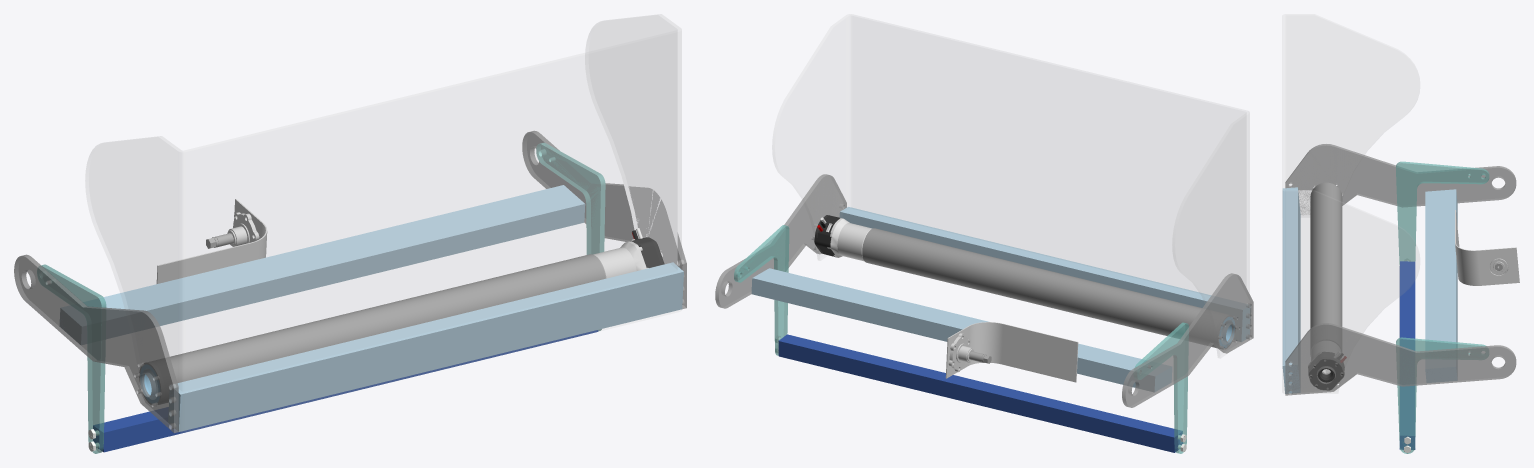
3 renders of one model, left to right at view 1: azimuth 30°, elevation 25°; view 2: azimuth 150°, elevation 25°; view 3: azimuth 270°, elevation 25°, orthographic. The views are drawn at different scales.
Visible parts, largest first — view 1: Part 1, Intake cross brace (×2), intake arm for neo or vortex (×2), Inner Tube, intake L polycarb (×2), peanut bar, Mount, id42, 1/2" Hex Hub (0.875" OD, 1.875" Bolt Circle), NEO Vortex Solo Adapter; view 2: Part 1, Intake cross brace (×2), Inner Tube, intake arm for neo or vortex (×2), peanut bar, intake L polycarb (×2), Mount, id42, 1/2" Hex Hub (0.875" OD, 1.875" Bolt Circle), NEO Vortex Solo Adapter; view 3: Part 1, intake arm for neo or vortex (×2), Intake cross brace (×2), intake L polycarb (×2), Inner Tube, peanut bar, Mount, NEO Vortex Solo Adapter, id42.
Boxes of the visible parts, <box> form: Part 1: <box>85,14,681,431</box>; Intake cross brace (×2): <box>59,185,683,431</box>; intake arm for neo or vortex (×2): <box>14,131,686,433</box>; Inner Tube: <box>139,254,605,405</box>; intake L polycarb (×2): <box>37,142,605,453</box>; peanut bar: <box>93,330,598,452</box>; Mount: <box>156,199,267,283</box>; id42: <box>593,241,648,278</box>; 1/2" Hex Hub (0.875" OD, 1.875" Bolt Circle): <box>227,212,259,246</box>; NEO Vortex Solo Adapter: <box>630,228,664,267</box>; Part 1: <box>772,14,1249,357</box>; Intake cross brace (×2): <box>751,207,1250,391</box>; Inner Tube: <box>862,228,1235,348</box>; intake arm for neo or vortex (×2): <box>715,174,1253,407</box>; peanut bar: <box>778,334,1182,452</box>; intake L polycarb (×2): <box>734,225,1188,453</box>; Mount: <box>945,322,1078,382</box>; id42: <box>827,218,872,261</box>; 1/2" Hex Hub (0.875" OD, 1.875" Bolt Circle): <box>948,333,974,372</box>; NEO Vortex Solo Adapter: <box>814,215,840,257</box>; Part 1: <box>1282,14,1419,393</box>; intake arm for neo or vortex (×2): <box>1285,144,1516,395</box>; Intake cross brace (×2): <box>1282,187,1457,393</box>; intake L polycarb (×2): <box>1396,161,1489,453</box>; Inner Tube: <box>1310,182,1342,350</box>; peanut bar: <box>1399,261,1415,449</box>; Mount: <box>1455,210,1519,285</box>; NEO Vortex Solo Adapter: <box>1308,352,1346,390</box>; id42: <box>1309,341,1340,374</box>.
Bounding box in the file's own units: 0.6985 × 0.473 × 0.3883.
